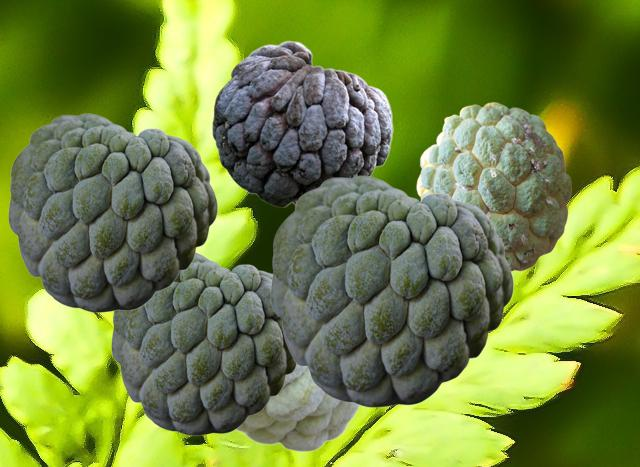atis: (270, 175, 512, 406), (8, 113, 216, 311), (111, 252, 296, 434), (212, 40, 392, 206), (416, 102, 570, 271), (236, 366, 360, 451)
